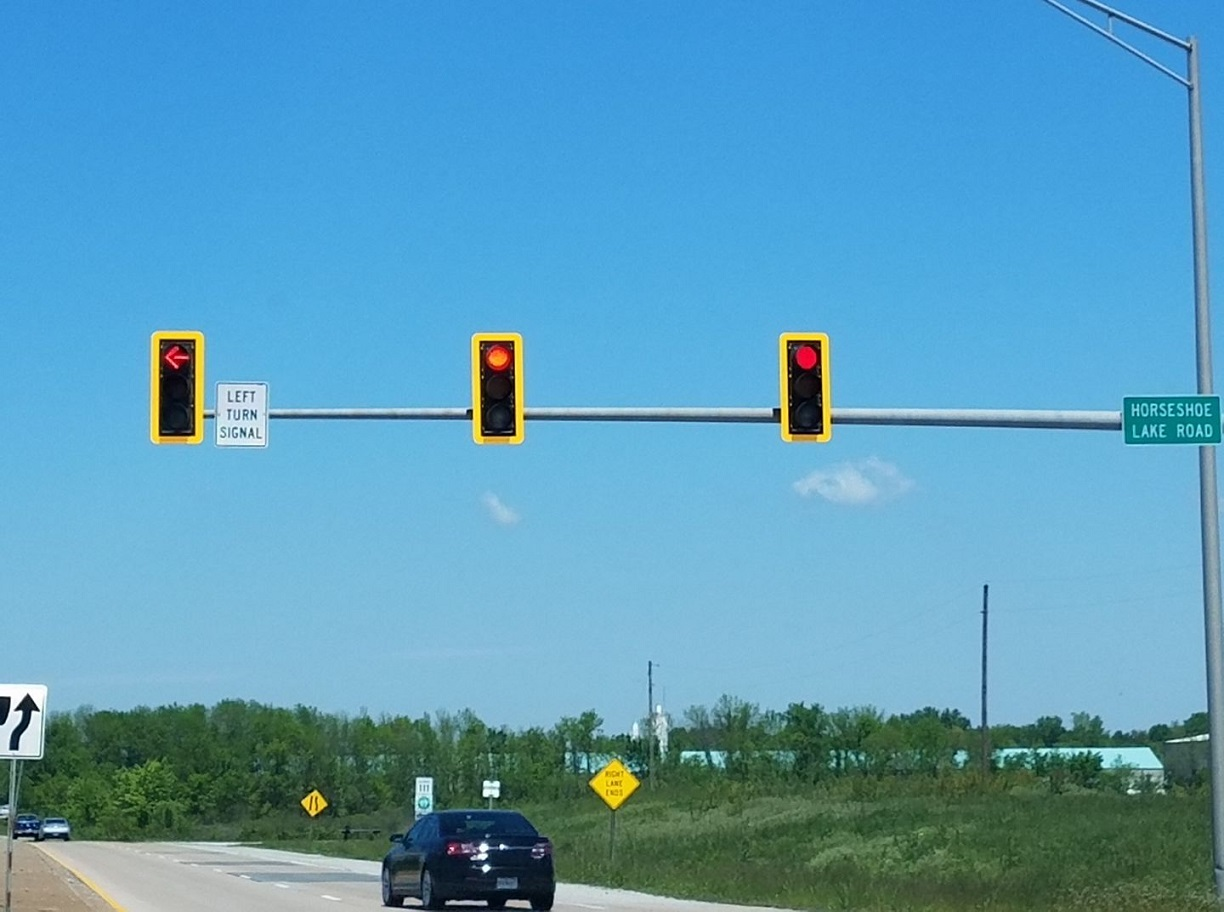traffic_light: (469, 330, 527, 448), (149, 329, 206, 446), (777, 329, 833, 444)
